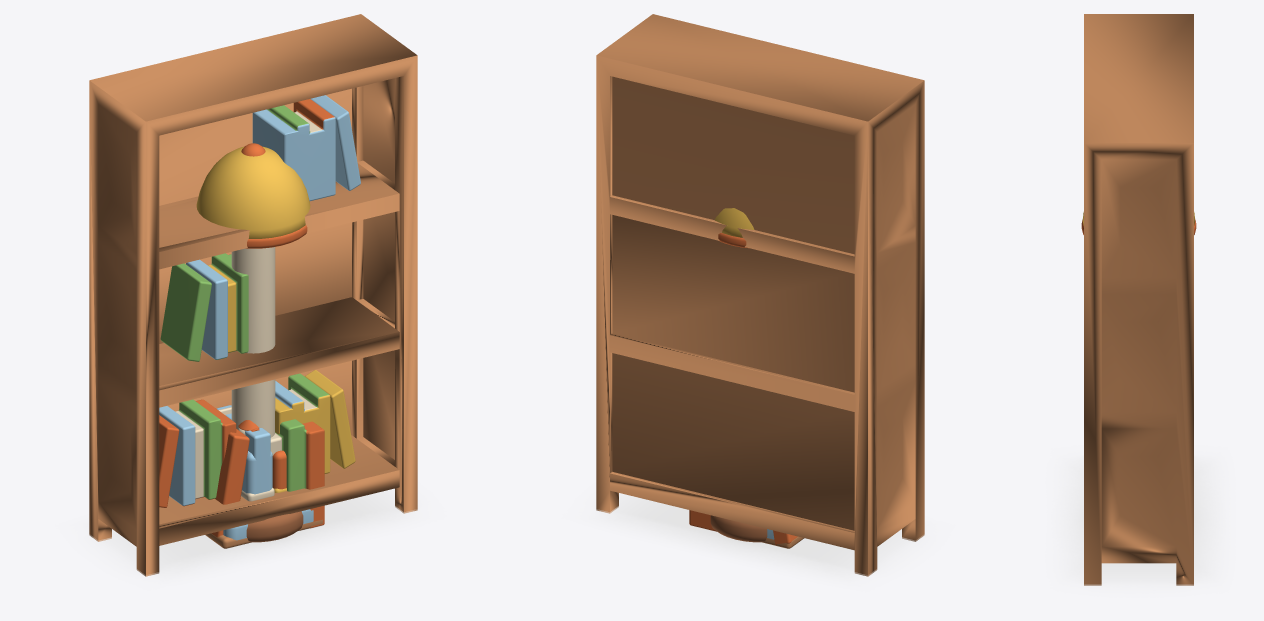
File: interest_book_v1_draco_webp.glb
The picture shows the model from 3 angles, left to right: view 1: azimuth 30°, elevation 25°; view 2: azimuth 150°, elevation 25°; view 3: azimuth 270°, elevation 25°; orthographic projection. The views are drawn at different scales.
Parts seen in each view (by area): view 1: bookshelf_frame, bookshelf, shadow_bookshelf, reading_lamp_shade, book_stack_books, reading_lamp_stem, sf_books, reading_lamp_base, shadow_reading_lamp; view 2: bookshelf_frame, shadow_bookshelf, reading_lamp_base, reading_lamp_shade; view 3: bookshelf_frame, shadow_bookshelf, shadow_reading_lamp.
Part boxes in pixels (bbox=[...]): bookshelf_frame: bbox=[89, 14, 417, 576]; bookshelf: bbox=[159, 95, 360, 507]; shadow_bookshelf: bbox=[84, 489, 420, 579]; reading_lamp_shade: bbox=[196, 146, 310, 238]; book_stack_books: bbox=[211, 405, 324, 537]; reading_lamp_stem: bbox=[231, 247, 275, 437]; sf_books: bbox=[241, 450, 286, 501]; reading_lamp_base: bbox=[246, 511, 303, 542]; shadow_reading_lamp: bbox=[198, 528, 311, 553]; bookshelf_frame: bbox=[596, 14, 924, 576]; shadow_bookshelf: bbox=[590, 493, 927, 581]; reading_lamp_base: bbox=[710, 515, 767, 542]; reading_lamp_shade: bbox=[714, 208, 754, 237]; bookshelf_frame: bbox=[1084, 14, 1193, 585]; shadow_bookshelf: bbox=[1060, 455, 1222, 589]; shadow_reading_lamp: bbox=[1070, 506, 1207, 541].
Bounding box in the file's own units: 1.08 × 1.28 × 0.581.
Materials: 8 (1 with a texture image).
